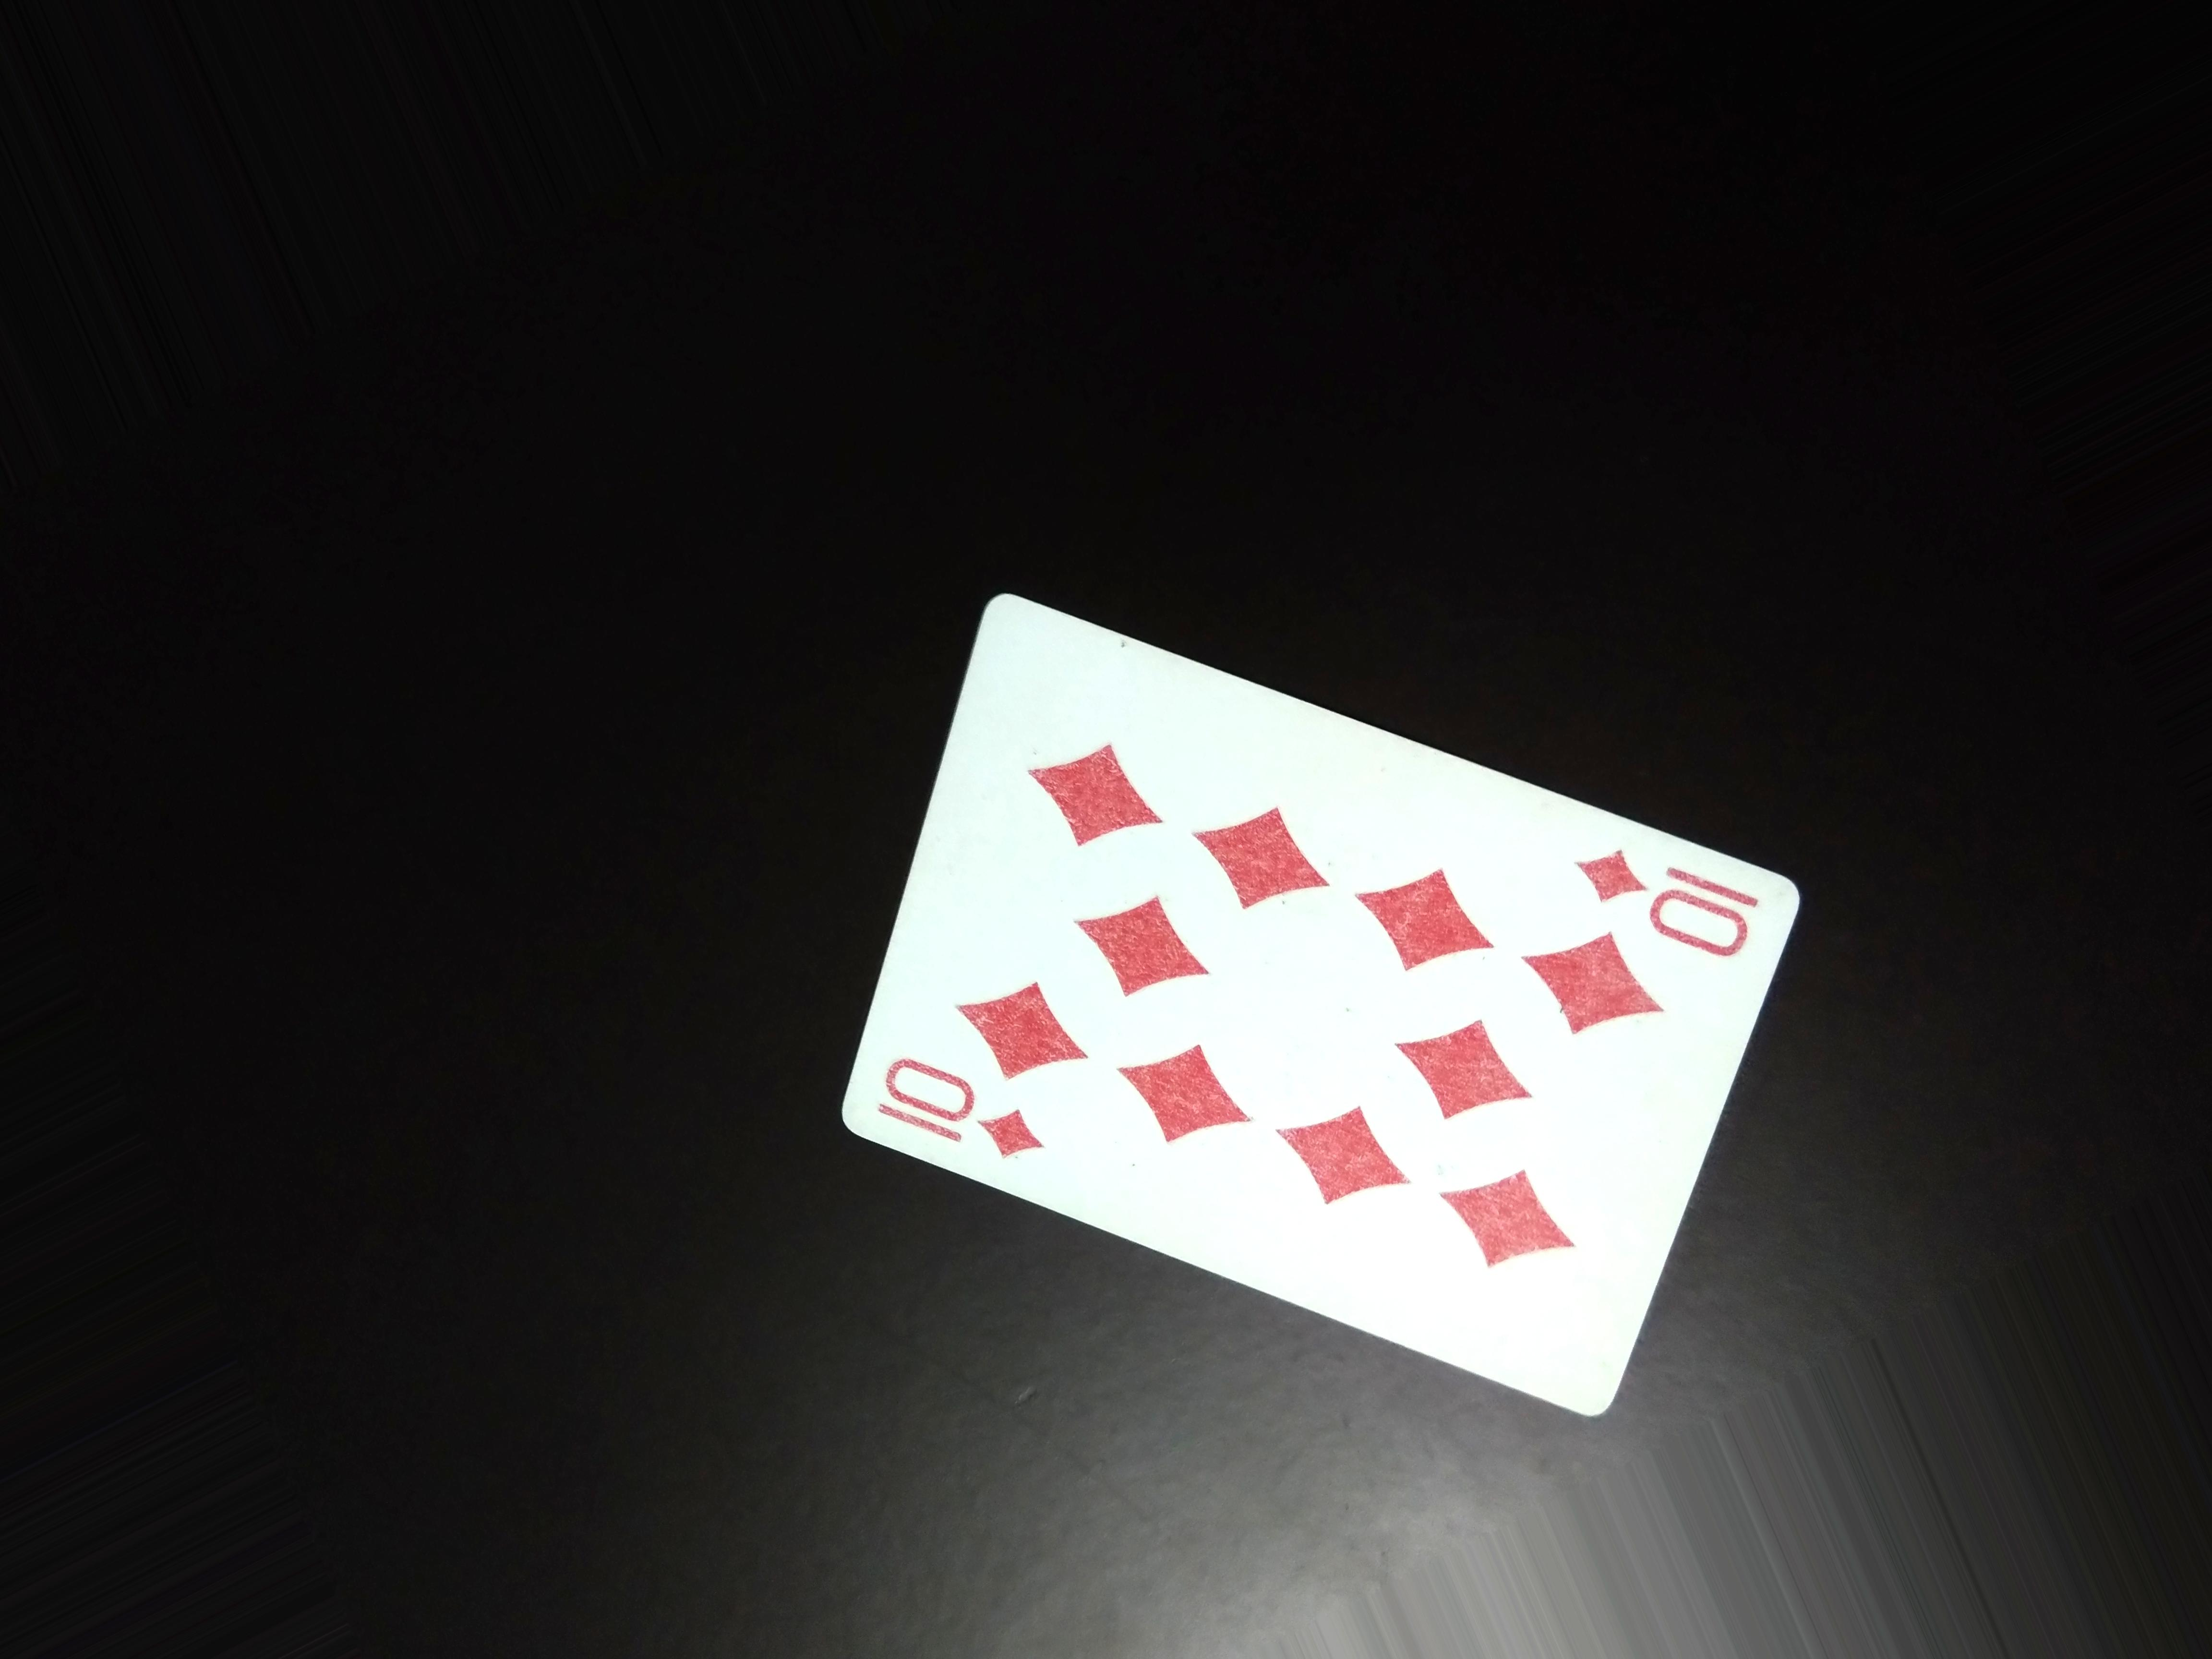10D: (1583, 828, 1784, 983)
